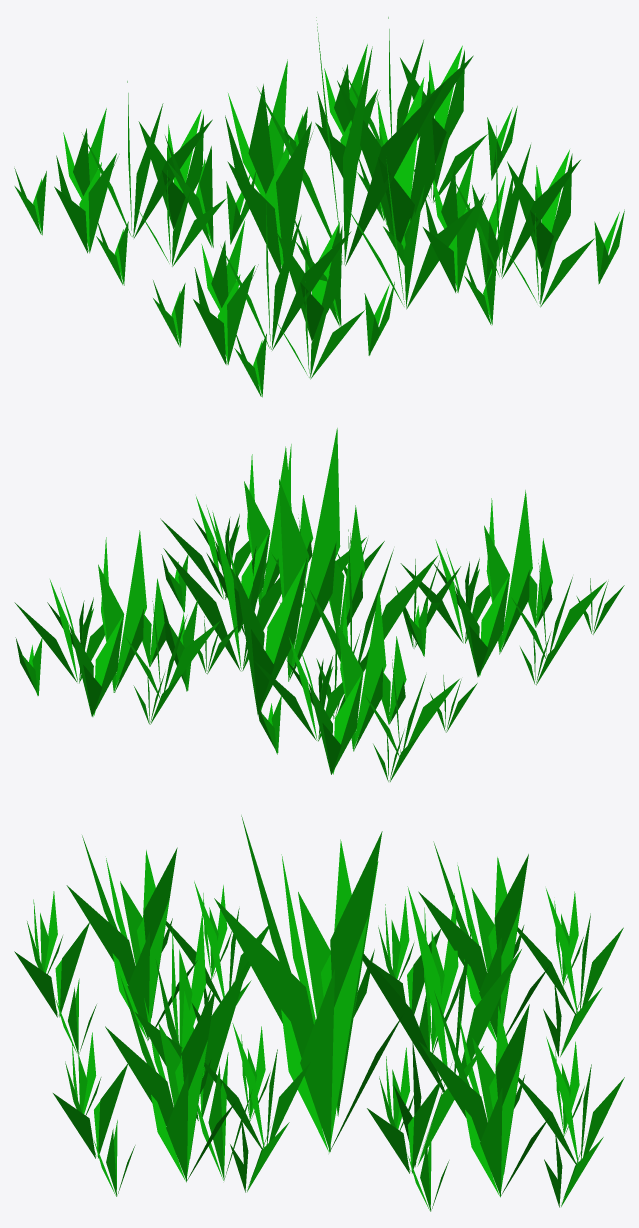
File: Grass2.obj
3 views of the same model, one above another, from view 1: azimuth 30°, elevation 25°; view 2: azimuth 150°, elevation 25°; view 3: azimuth 270°, elevation 25° (orthographic). The views are drawn at different scales.
Visible parts, largest first — view 1: 平面.003; view 2: 平面.003; view 3: 平面.003.
Boxes of the visible parts, <box> form: 平面.003: <box>14,17,624,397</box>; 平面.003: <box>14,428,624,781</box>; 平面.003: <box>14,815,624,1211</box>.
Bounding box in the file's own units: 11.99 × 6.44 × 11.56.
